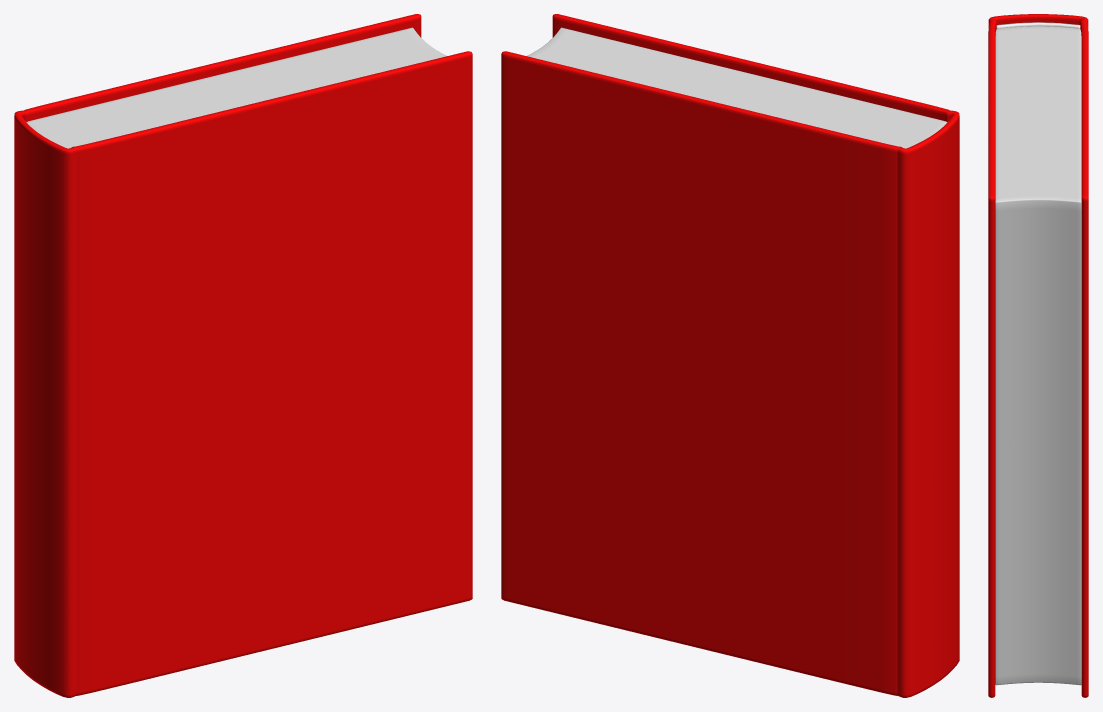
Rendered from book_small_red.glb.
The picture shows the model from 3 angles, left to right: view 1: azimuth 30°, elevation 25°; view 2: azimuth 150°, elevation 25°; view 3: azimuth 270°, elevation 25°; orthographic projection. The views are drawn at different scales.
Parts seen in each view (by area): view 1: cover_cover, pages_pages; view 2: cover_cover, pages_pages; view 3: pages_pages, cover_cover, binding_binding.
Boxes of the visible parts, bbox=[...] form: cover_cover: bbox=[14, 14, 472, 697]; pages_pages: bbox=[26, 27, 446, 148]; cover_cover: bbox=[501, 14, 959, 697]; pages_pages: bbox=[527, 27, 947, 148]; pages_pages: bbox=[995, 26, 1081, 685]; cover_cover: bbox=[988, 14, 1088, 697]; binding_binding: bbox=[996, 22, 1080, 28].
Bounding box in the file's own units: 0.1063 × 0.1346 × 0.0244.
